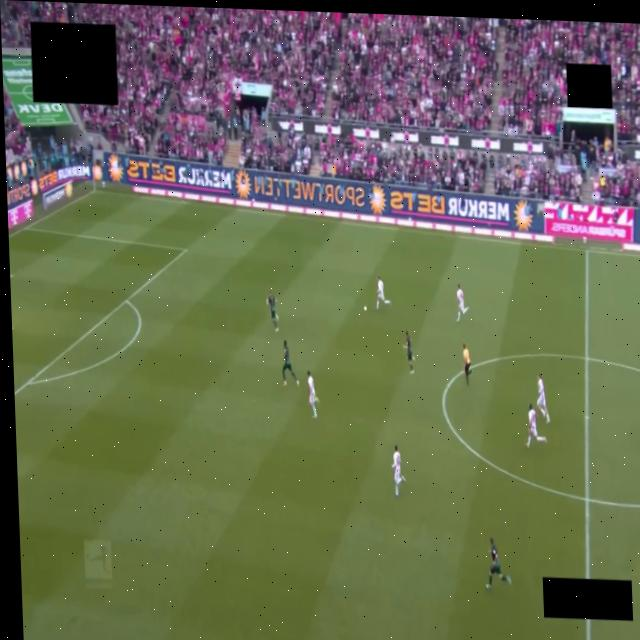ball: (363, 306, 366, 311)
player: (486, 537, 510, 589), (526, 403, 546, 448), (281, 340, 298, 385), (536, 374, 549, 423), (392, 446, 404, 496), (306, 371, 317, 418), (266, 290, 278, 331), (403, 331, 414, 374), (376, 277, 390, 309), (456, 285, 468, 321)
referee: (462, 345, 470, 384)
